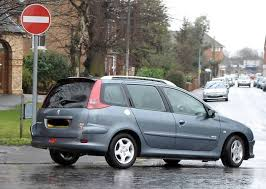No_entry: (20, 3, 52, 35)
